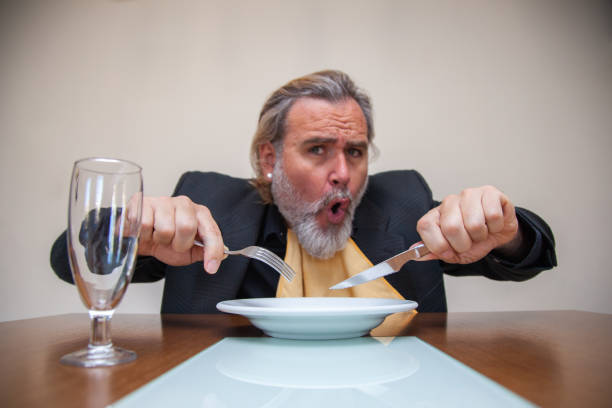knife: (327, 243, 432, 291)
